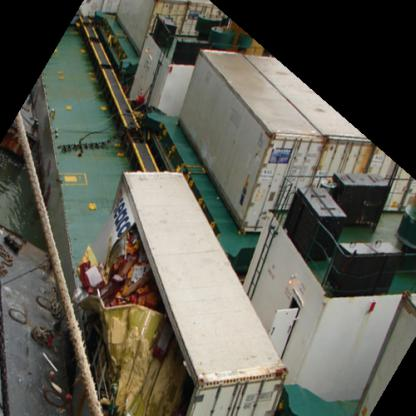Damage: (78, 211, 224, 414)
